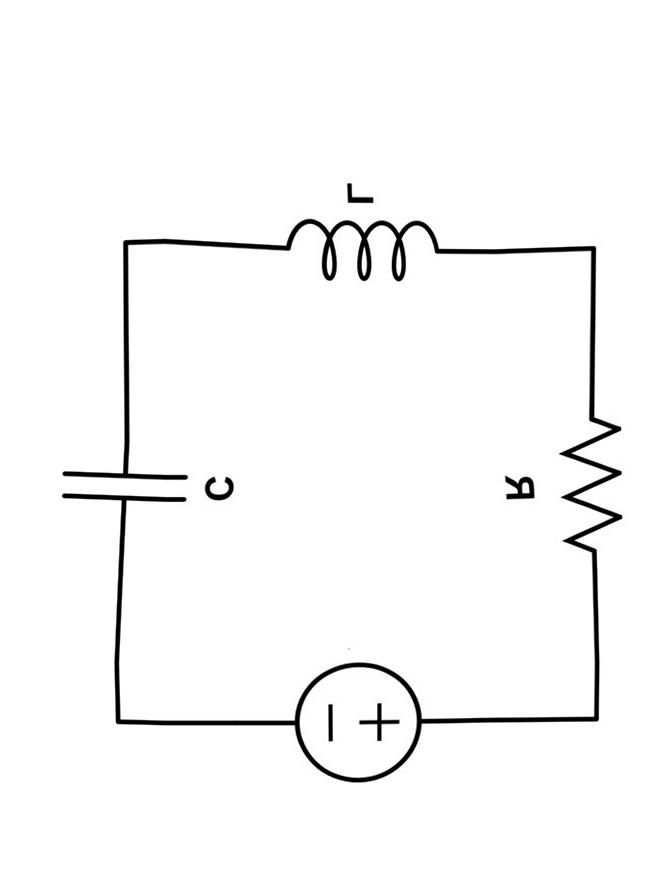Battery: (272, 639, 446, 809)
